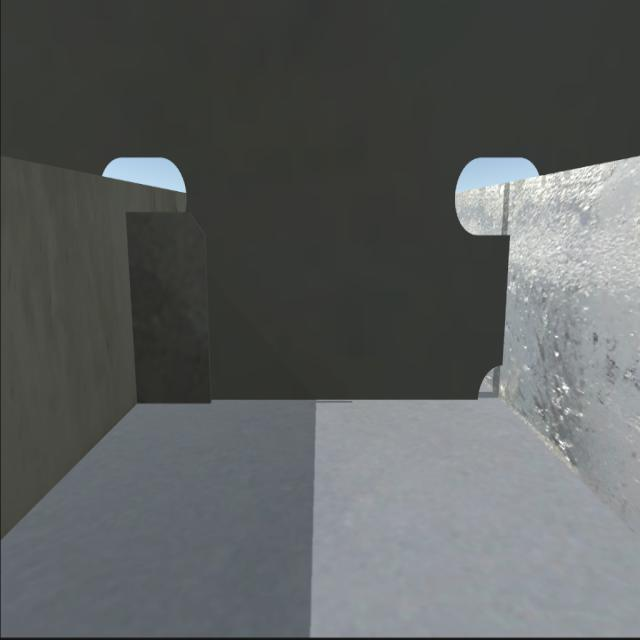fillet_hole: (472, 352, 507, 400)
fillet_yong_jeop_jang: (138, 399, 482, 410)
longi_yong_jeop_jang: (122, 212, 146, 412), (500, 233, 515, 357)
plate_CP03: (133, 212, 215, 402)
